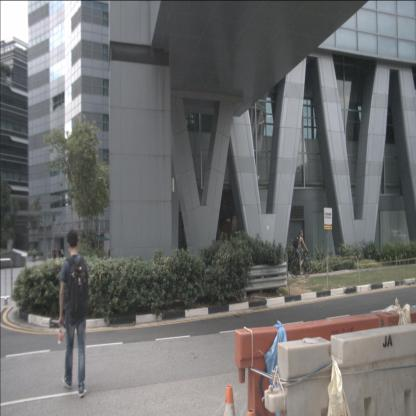human-pedestrian-adult: (58, 229, 91, 398), (52, 246, 57, 264), (32, 246, 37, 262), (60, 247, 64, 261), (58, 248, 61, 260)
movable_object-barrier: (235, 314, 380, 415), (264, 322, 415, 415)
movable_object-trafficcone: (218, 385, 240, 416)
vehicle-bicycle: (290, 229, 312, 279)
vehicle-car: (390, 230, 408, 242)
